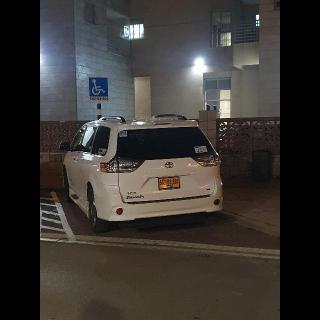LicensePlate: (159, 177, 179, 185)
